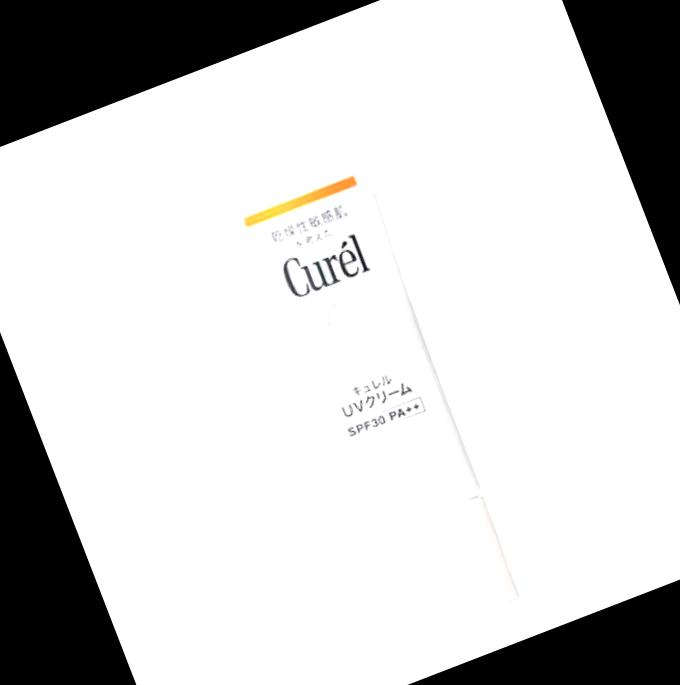cosmetic: (184, 84, 541, 650)
